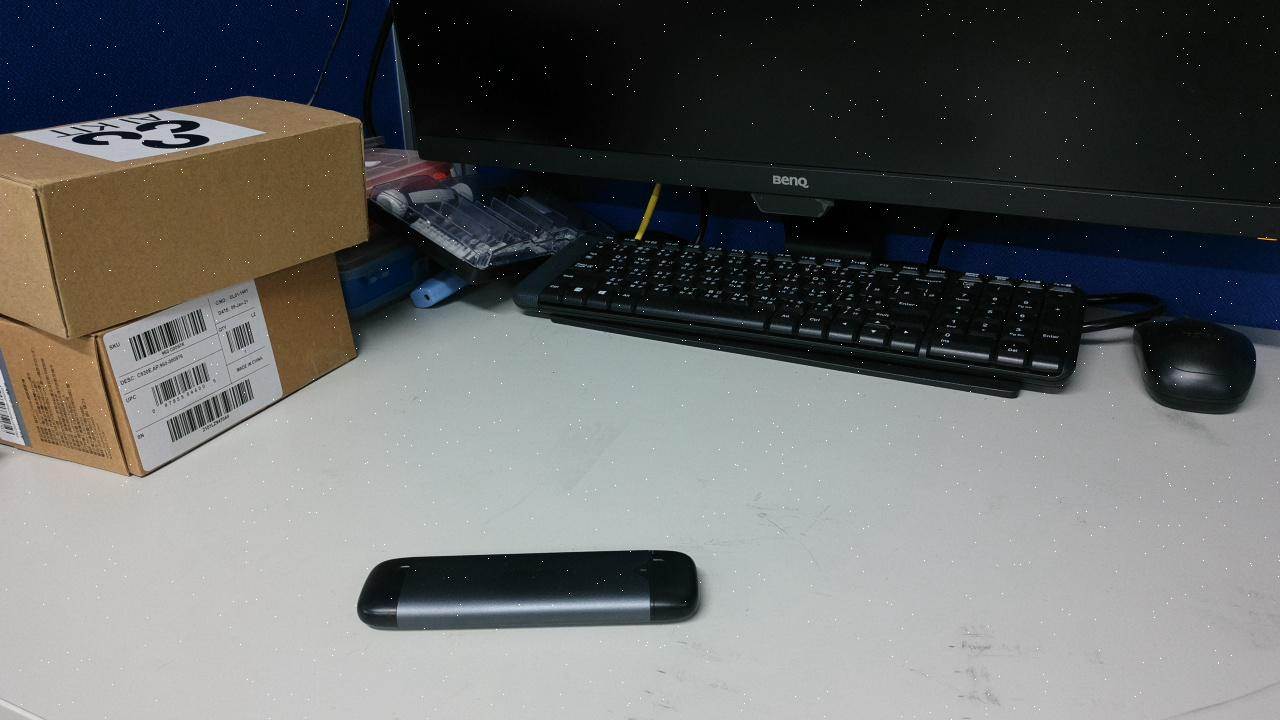blade: (589, 545, 680, 647)
grasp: (646, 476, 758, 556)
